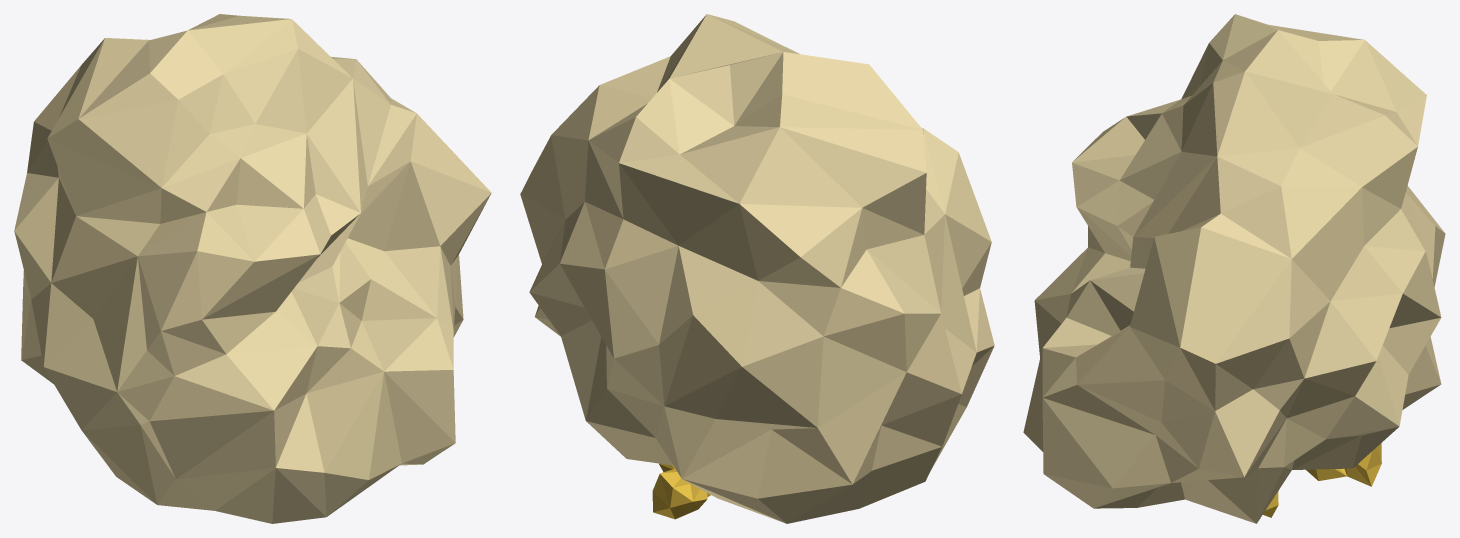
Rendered from MetalOre (10).fbx.
The picture shows the model from 3 angles, left to right: view 1: azimuth 30°, elevation 25°; view 2: azimuth 150°, elevation 25°; view 3: azimuth 270°, elevation 25°; orthographic projection. The views are drawn at different scales.
Parts seen in each view (by area): view 1: Asteroid365; view 2: Asteroid365; view 3: Asteroid365.
Part boxes in pixels (<box>): Asteroid365: <box>14,14,491,523</box>; Asteroid365: <box>520,14,994,523</box>; Asteroid365: <box>1023,14,1445,523</box>.
Bounding box in the file's own units: 452 × 450 × 388.
